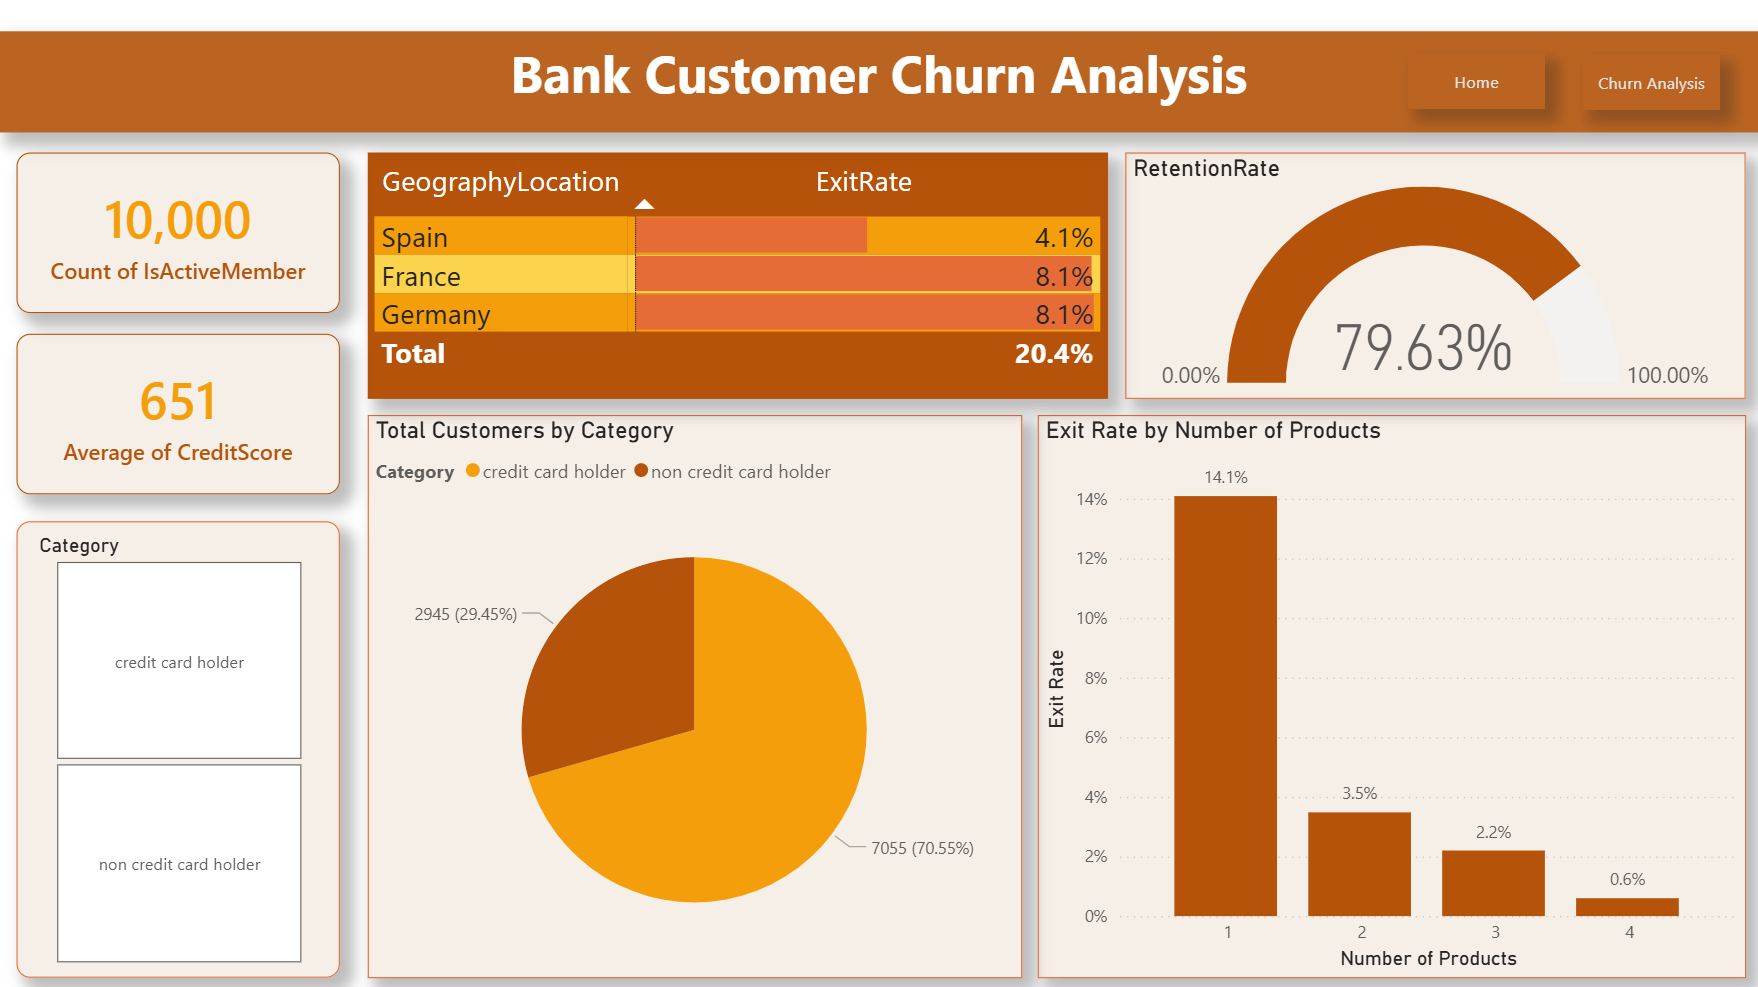

The page's visual inventory and layout, read from the dashboard file:
{"tool":"powerbi","page":{"name":"Product & Credit Analysis","canvas":[1280,720],"ordinal":2},"visuals":[{"type":"pieChart","title":"Total Customers by Category","fields":{"Category":["CreditCard.Category"],"Y":["Bank_Churn.TotalCustomers"]},"box":[267.8,302,475.7,409.6],"z":0},{"type":"columnChart","title":"Exit Rate by Number of Products","fields":{"Y":["Bank_Churn.ExitRate"],"Category":["Bank_Churn.NumOfProducts"]},"box":[755.7,302,514.8,409.6],"z":1000},{"type":"pivotTable","fields":{"Rows":["Geography.GeographyLocation"],"Values":["Bank_Churn.ExitRate"]},"box":[268.4,111.1,538.2,178.9],"z":2000},{"type":"gauge","fields":{"Y":["Bank_Churn.RetentionRate"]},"box":[819.5,111.1,451.6,178.9],"z":3000},{"type":"textbox","box":[0,23.1,1279.7,73.6],"z":4000},{"type":"actionButton","box":[1024.7,39.1,100.3,40.4],"z":5000},{"type":"actionButton","box":[1151.9,40.4,100.3,40.4],"z":6000},{"type":"slicer","fields":{"Values":["CreditCard.Category"]},"box":[13,379.4,235.2,331.8],"z":7000},{"type":"card","fields":{"Values":["CountNonNull(Bank_Churn.IsActiveMember)"]},"box":[13,111.1,235.2,116.9],"z":9000},{"type":"card","fields":{"Values":["Avg(Bank_Churn.CreditScore)"]},"box":[13,242.4,235.2,116.9],"z":10000}]}

Visuals, with their boxes in screenshot pixels (x1, y1, x2, y2), scaled from the page's 1280x720 canvas onto the 1758x987 screenshot:
"Total Customers by Category" pieChart: 368:414:1021:975
"Exit Rate by Number of Products" columnChart: 1038:414:1745:975
pivotTable - Geography.GeographyLocation x Bank_Churn.ExitRate: 369:152:1108:398
gauge - Bank_Churn.RetentionRate: 1126:152:1746:398
textbox: 0:32:1757:133
actionButton: 1407:54:1545:109
actionButton: 1582:55:1720:111
slicer - CreditCard.Category: 18:520:341:975
card - CountNonNull(Bank_Churn.IsActiveMember): 18:152:341:313
card - Avg(Bank_Churn.CreditScore): 18:332:341:493
